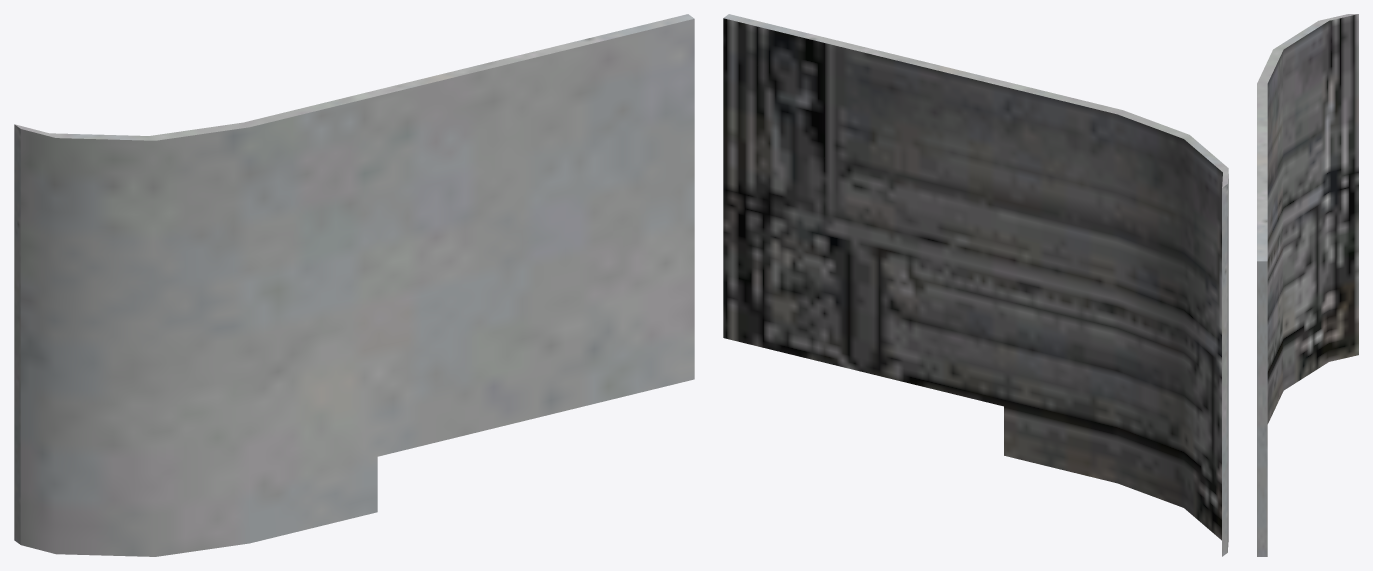
Rendered from lambda_geardoor_a1.fbx.
3 views of the same model, side by side, from view 1: azimuth 30°, elevation 25°; view 2: azimuth 150°, elevation 25°; view 3: azimuth 270°, elevation 25° (orthographic). The views are drawn at different scales.
Visible parts, largest first — view 1: mesh_node; view 2: mesh_node; view 3: mesh_node.
Boxes of the visible parts, x1,y1,x2,y2 form: mesh_node: [14, 14, 694, 556]; mesh_node: [723, 14, 1228, 556]; mesh_node: [1257, 14, 1358, 556].
Size of the model in its own units: 2.92 by 1.88 by 0.5067.
